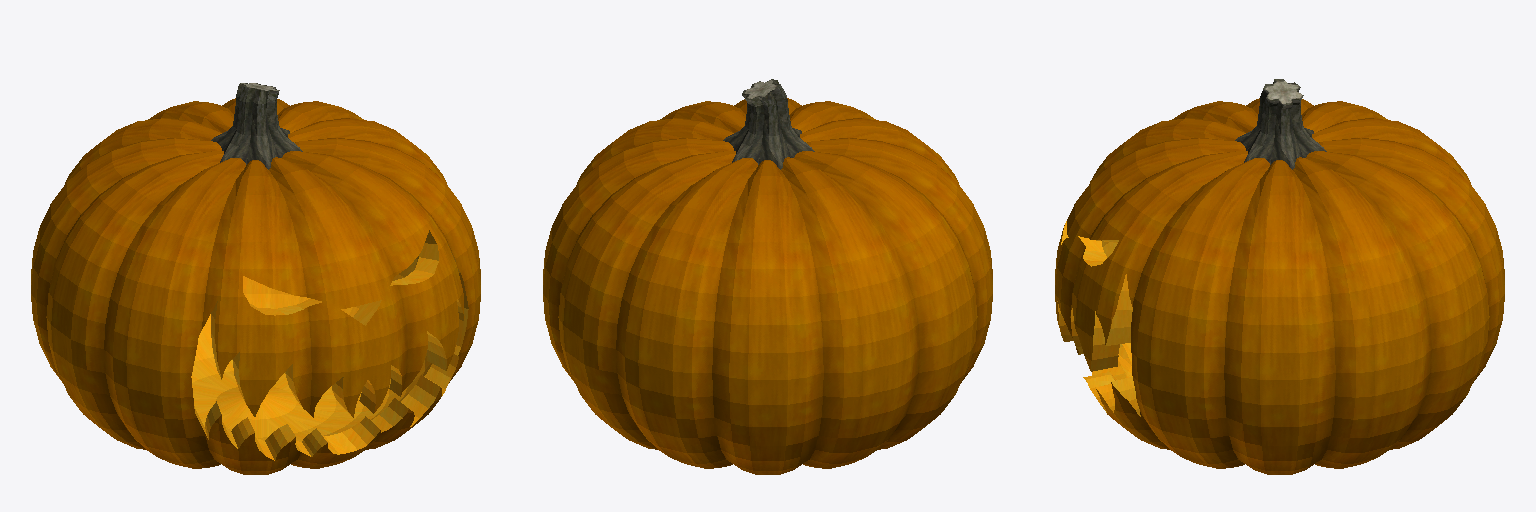
3 views of the same model, side by side, from view 1: azimuth 30°, elevation 25°; view 2: azimuth 150°, elevation 25°; view 3: azimuth 270°, elevation 25° (orthographic).
Parts seen in each view (by area): view 1: Halloween_Pumpkin; view 2: Halloween_Pumpkin; view 3: Halloween_Pumpkin.
Part boxes in pixels (x1,y1,x2,y2): Halloween_Pumpkin: (31, 83, 480, 474); Halloween_Pumpkin: (543, 79, 992, 474); Halloween_Pumpkin: (1055, 79, 1504, 474).
Bounding box in the file's own units: 0.5874 × 0.4958 × 0.5874.
1 materials, 1 textured.